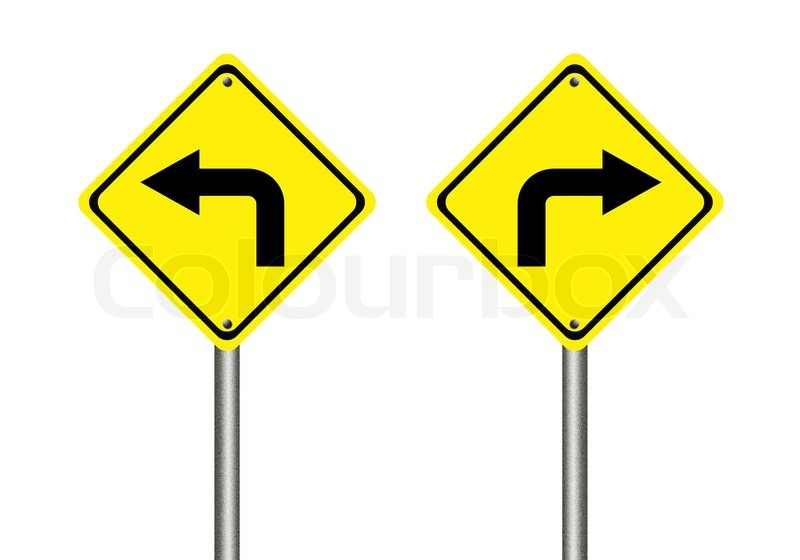left: (74, 52, 376, 348)
right: (427, 48, 725, 352)
